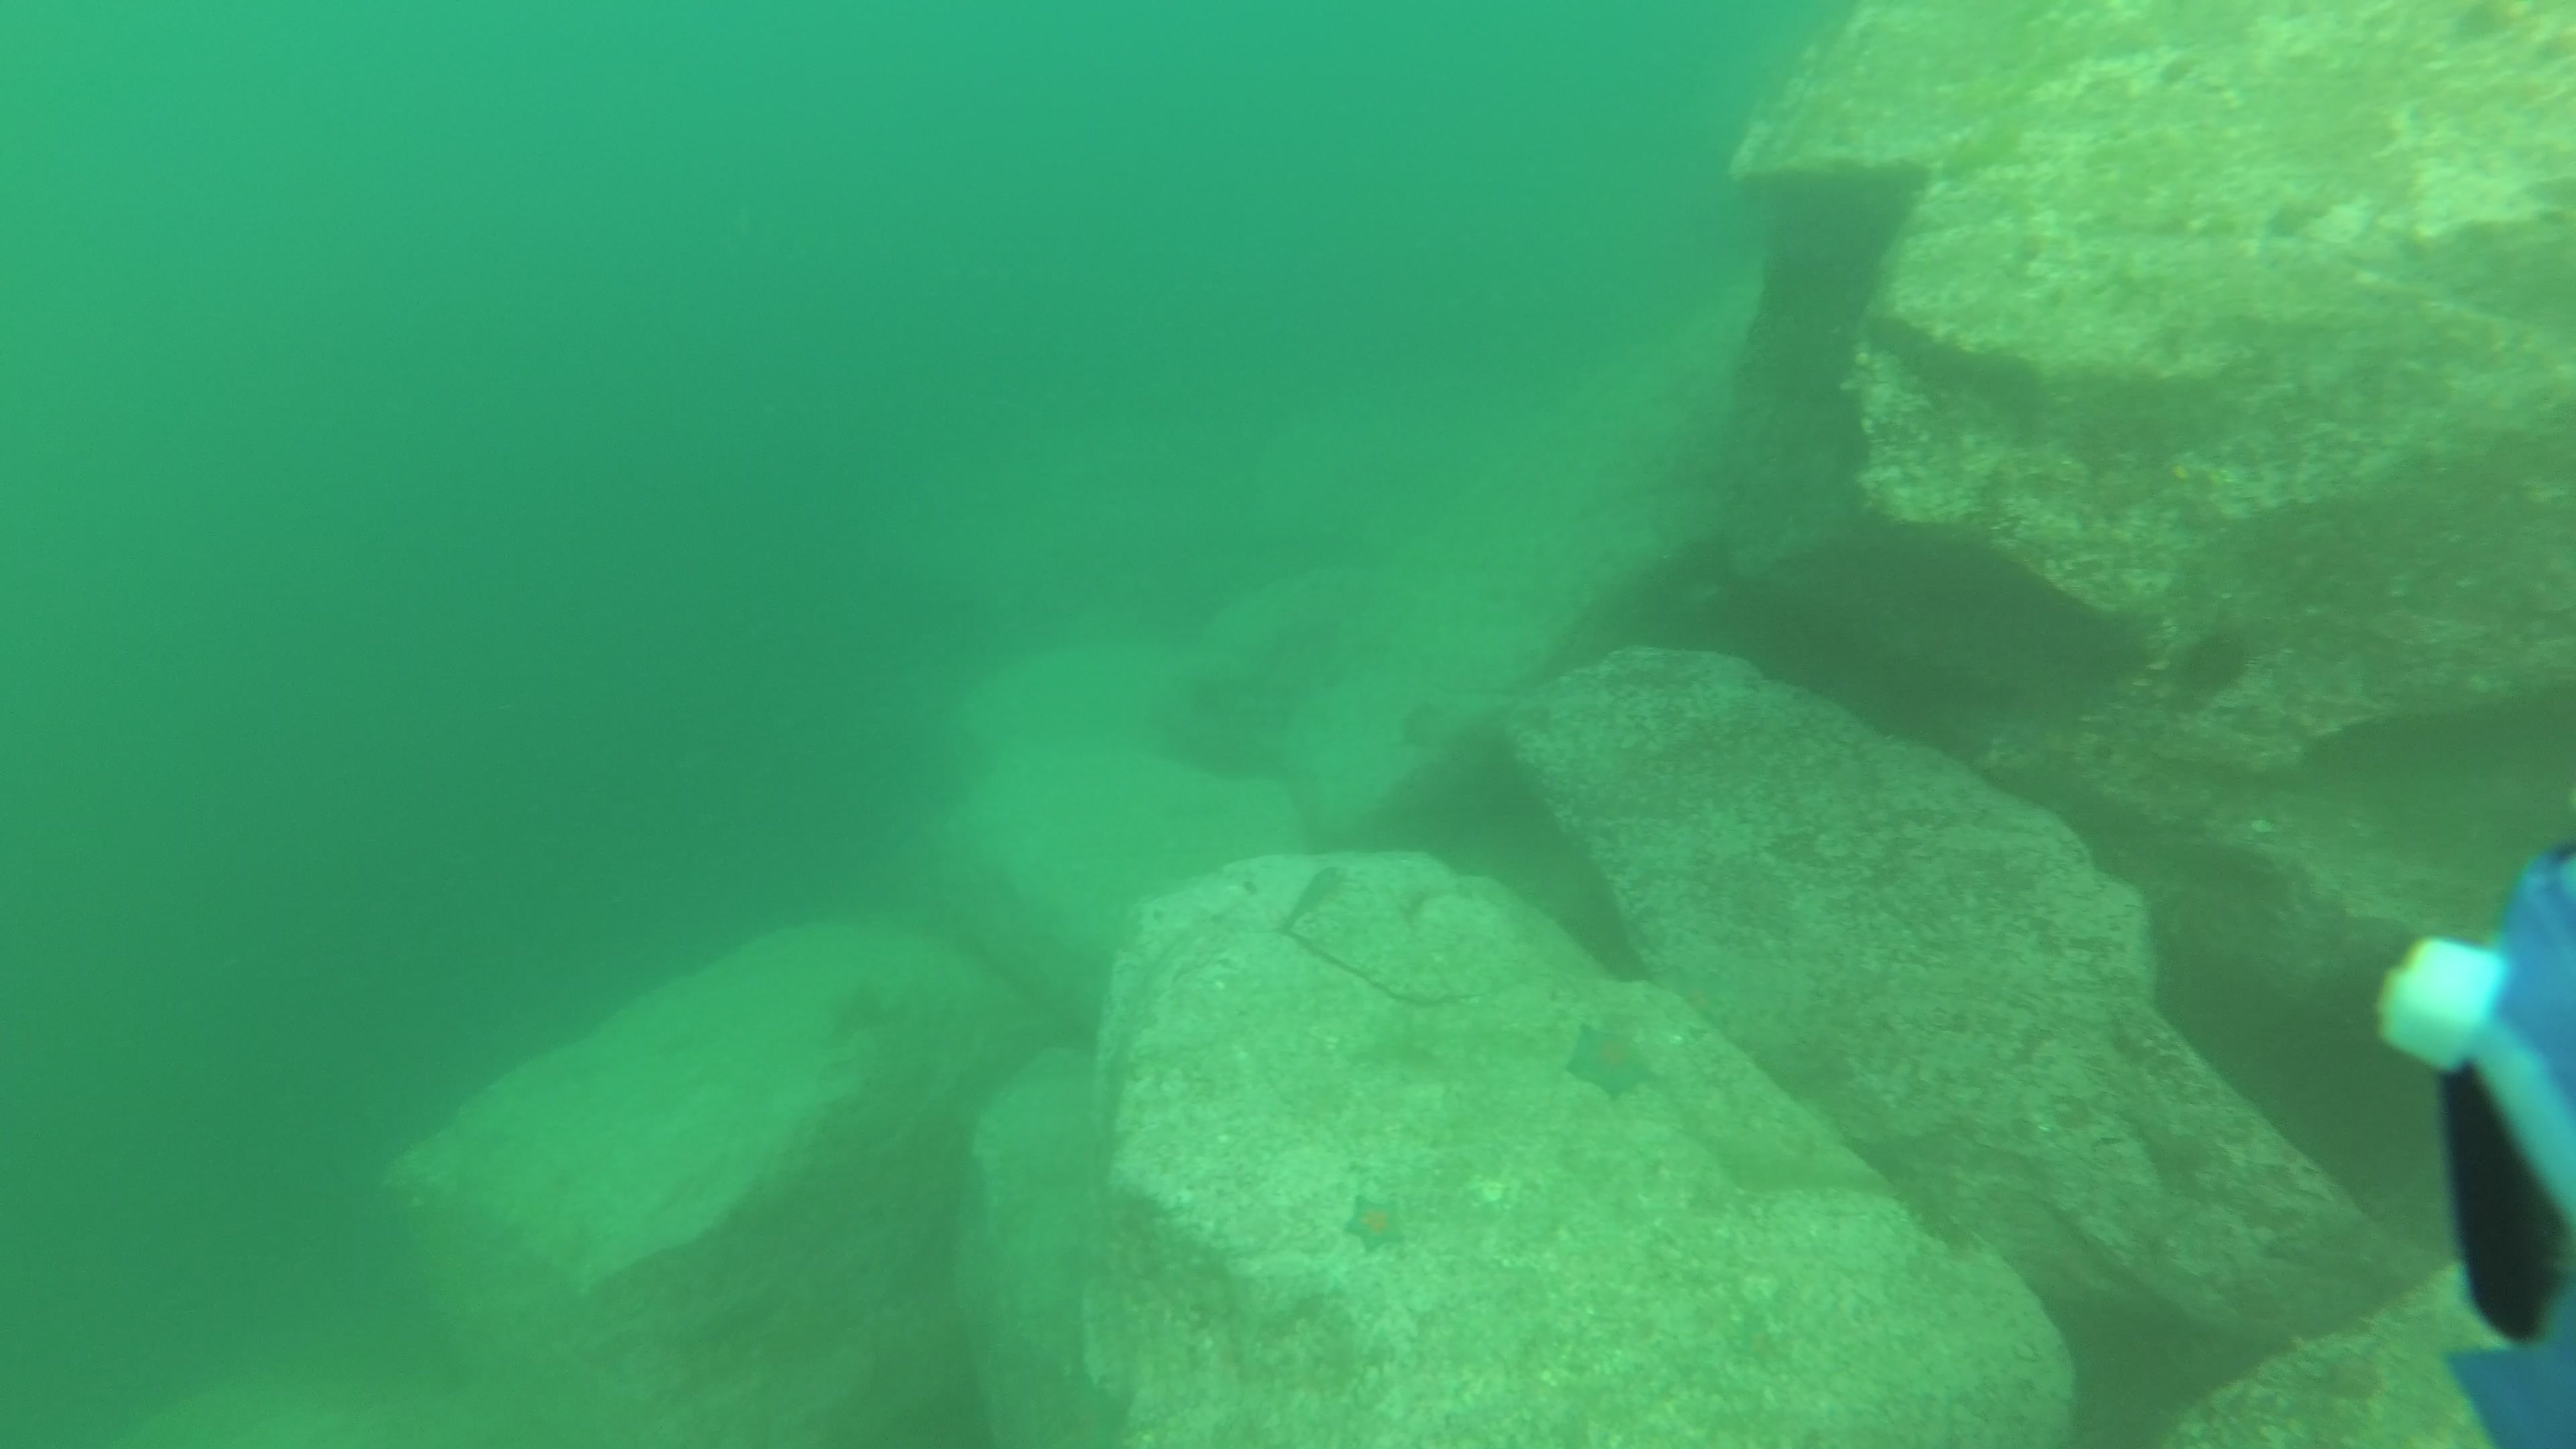echinus: (2173, 625, 2263, 699)
holothurian: (1888, 1171, 1982, 1256)
starfish: (1562, 1019, 1661, 1108), (1339, 1194, 1408, 1254)
